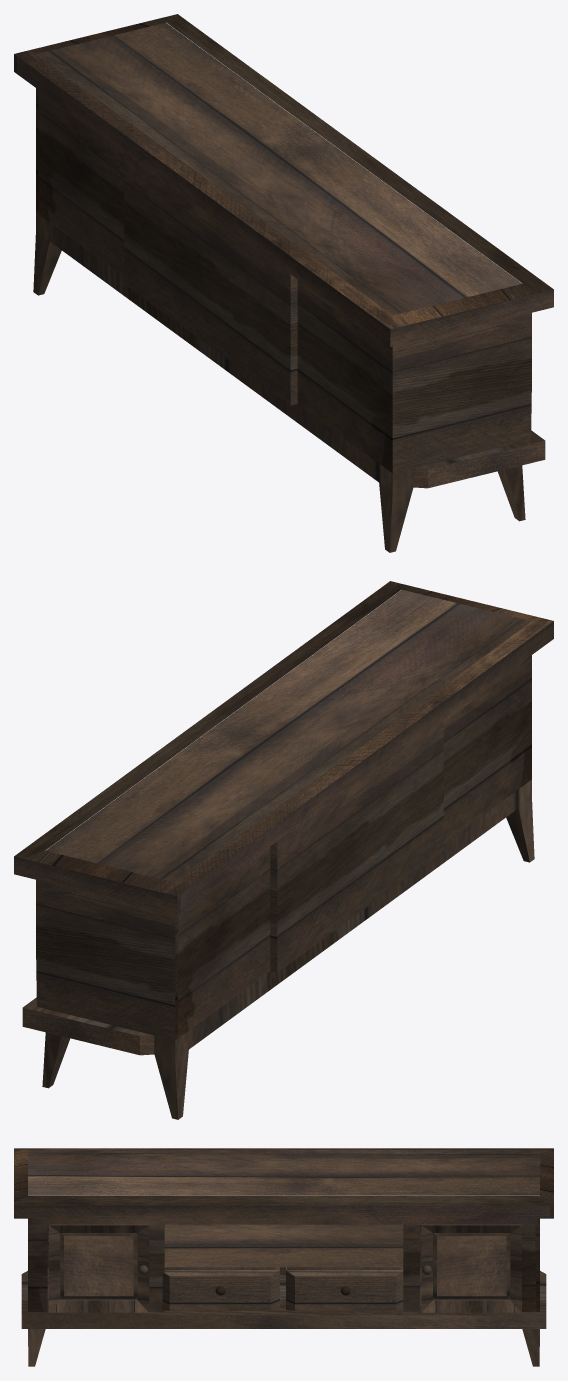
File: Reack.fbx
3 renders of one model, top to bottom at view 1: azimuth 30°, elevation 25°; view 2: azimuth 150°, elevation 25°; view 3: azimuth 270°, elevation 25°, orthographic. The views are drawn at different scales.
Visible parts, largest first — view 1: Cube; view 2: Cube; view 3: Cube, Cube.001, Cube.002, Cube.003, Cube.004.
Boxes of the visible parts, bbox=[...] form: Cube: bbox=[14, 14, 553, 552]; Cube: bbox=[14, 581, 553, 1119]; Cube: bbox=[14, 1148, 553, 1366]; Cube.001: bbox=[48, 1224, 149, 1312]; Cube.002: bbox=[421, 1224, 521, 1312]; Cube.003: bbox=[286, 1267, 403, 1310]; Cube.004: bbox=[162, 1267, 279, 1310].
Bounding box in the file's own units: 340 × 460 × 1323.
